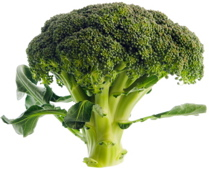broccoli: (0, 1, 208, 168)
